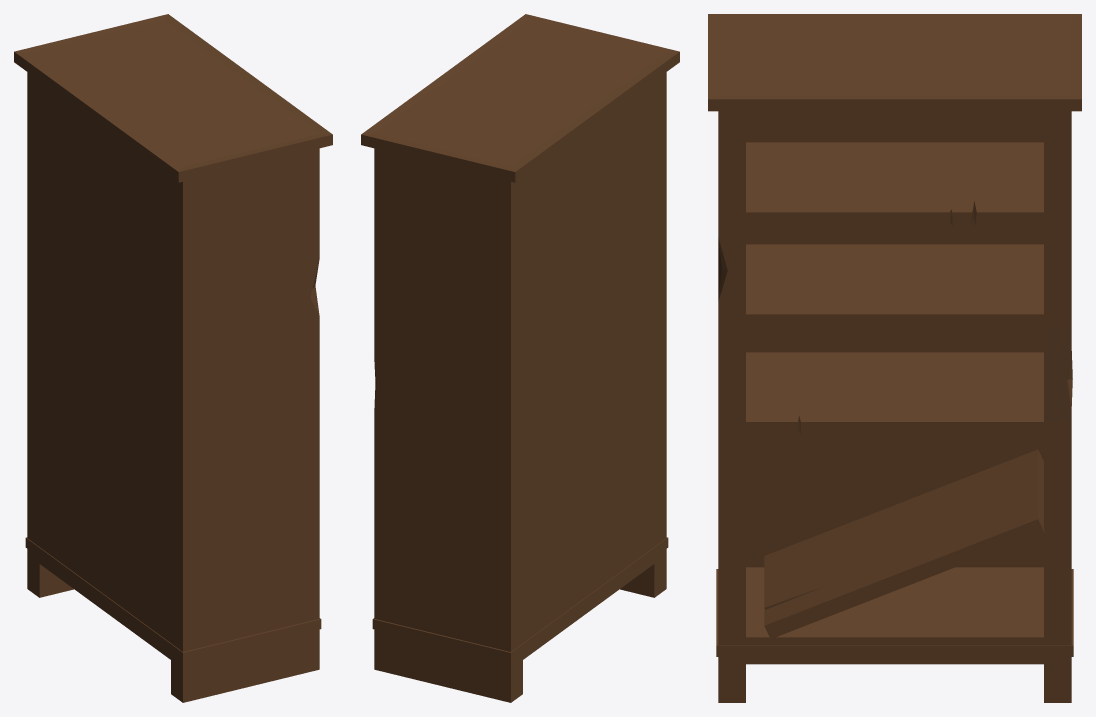
File: shelf_broken.fbx
3 renders of one model, left to right at view 1: azimuth 30°, elevation 25°; view 2: azimuth 150°, elevation 25°; view 3: azimuth 270°, elevation 25°, orthographic. The views are drawn at different scales.
Visible parts, largest first — view 1: Shelf_broken; view 2: Shelf_broken; view 3: Shelf_broken.
Part boxes in pixels (x1,y1,x2,y2): Shelf_broken: [14, 14, 332, 702]; Shelf_broken: [361, 14, 679, 702]; Shelf_broken: [708, 14, 1081, 702].
Bounding box in the file's own units: 125 × 417 × 232.
